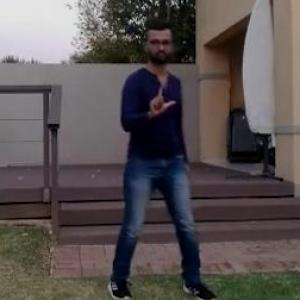land_hand: (142, 76, 180, 124)
